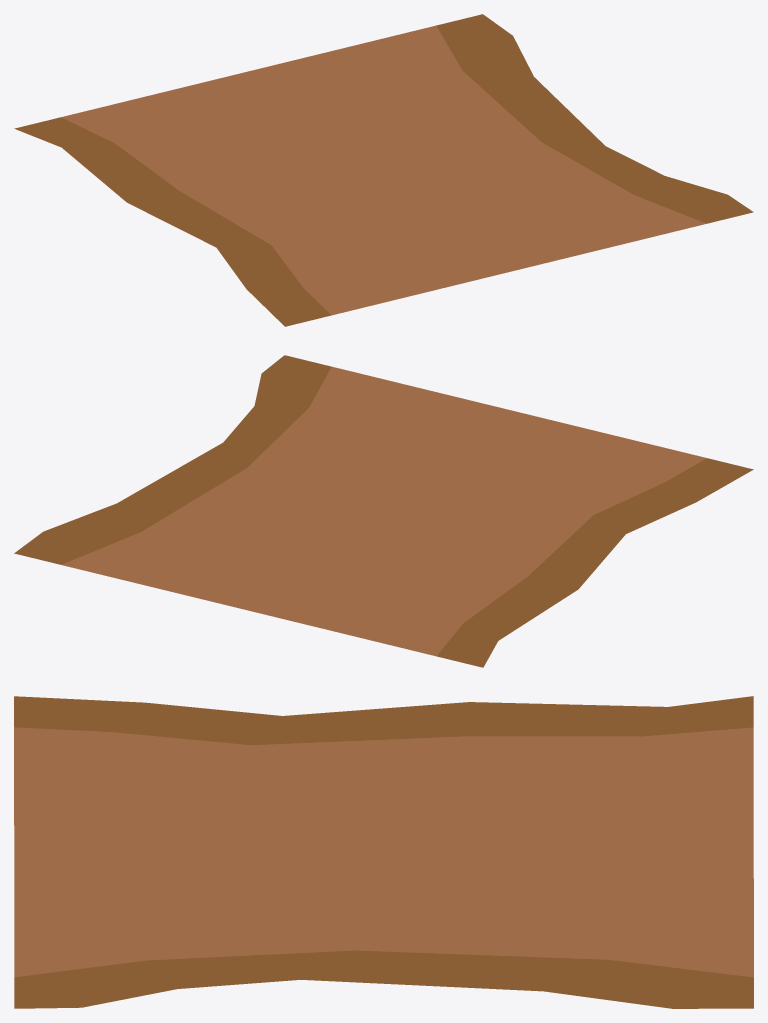
File: dirt_road_1.fbx
3 renders of one model, top to bottom at view 1: azimuth 30°, elevation 25°; view 2: azimuth 150°, elevation 25°; view 3: azimuth 270°, elevation 25°, orthographic. The views are drawn at different scales.
Parts seen in each view (by area): view 1: dirt_road_1; view 2: dirt_road_1; view 3: dirt_road_1.
Boxes of the visible parts, box(x1,y1,x2,y2) form: dirt_road_1: box(14, 14, 753, 326); dirt_road_1: box(14, 355, 753, 667); dirt_road_1: box(14, 696, 753, 1008).
Size of the model in its own units: 100 by 1.63e-05 by 100.
